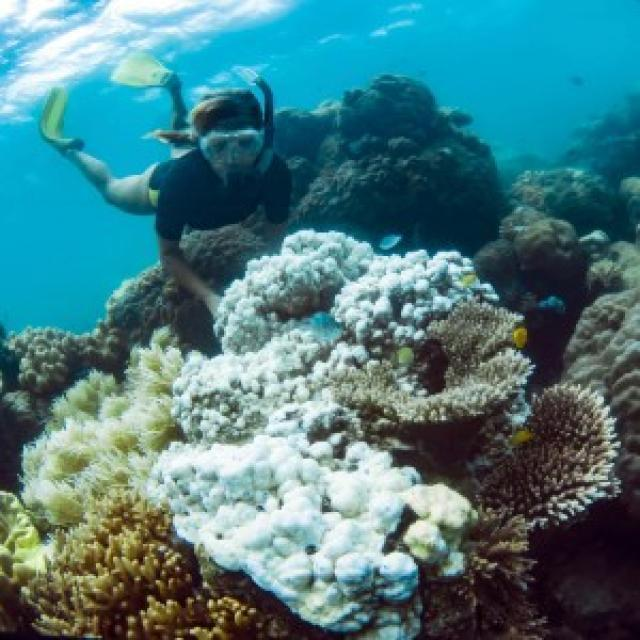Bleached: (159, 438, 475, 627), (204, 228, 392, 340), (337, 237, 502, 359), (167, 341, 345, 446)
Healthy: (305, 71, 521, 225), (487, 385, 635, 564), (64, 490, 218, 640), (19, 385, 170, 523), (1, 264, 174, 377)
